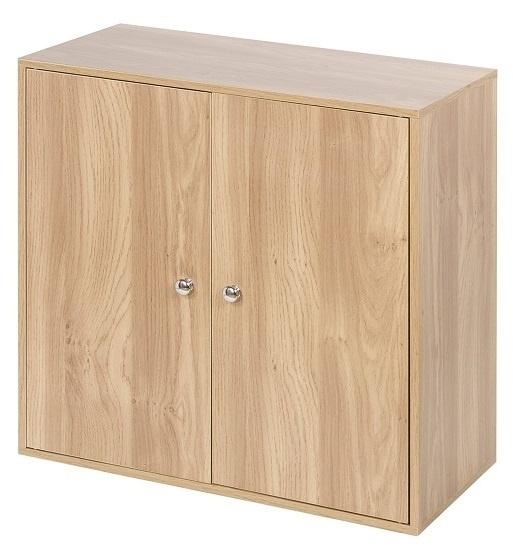cabinet_door: (215, 106, 410, 489), (26, 84, 210, 459)
handle: (173, 273, 195, 303), (221, 281, 241, 311)
